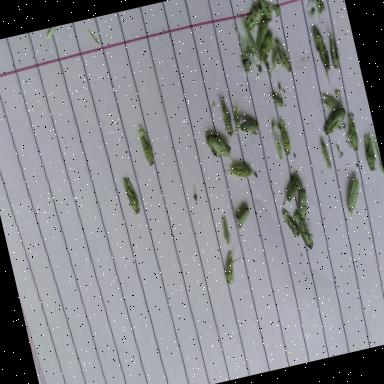pbw: (308, 26, 336, 86), (204, 128, 235, 170), (249, 32, 280, 73), (318, 104, 351, 138), (219, 249, 248, 286), (341, 177, 367, 218), (292, 210, 316, 252), (136, 124, 158, 168), (241, 1, 268, 36), (360, 131, 382, 173), (233, 118, 263, 147), (278, 176, 306, 207), (250, 18, 275, 52), (122, 175, 142, 216), (273, 34, 293, 75), (301, 0, 329, 29), (274, 118, 294, 158), (341, 114, 361, 154), (326, 30, 344, 71), (281, 207, 301, 242), (225, 162, 254, 186), (219, 99, 236, 139), (293, 187, 312, 222), (242, 19, 258, 56), (318, 140, 334, 176), (252, 0, 274, 24), (320, 92, 341, 114), (234, 207, 254, 230), (269, 48, 283, 76), (219, 216, 232, 246), (272, 130, 284, 160), (231, 106, 244, 131), (268, 2, 282, 20)
